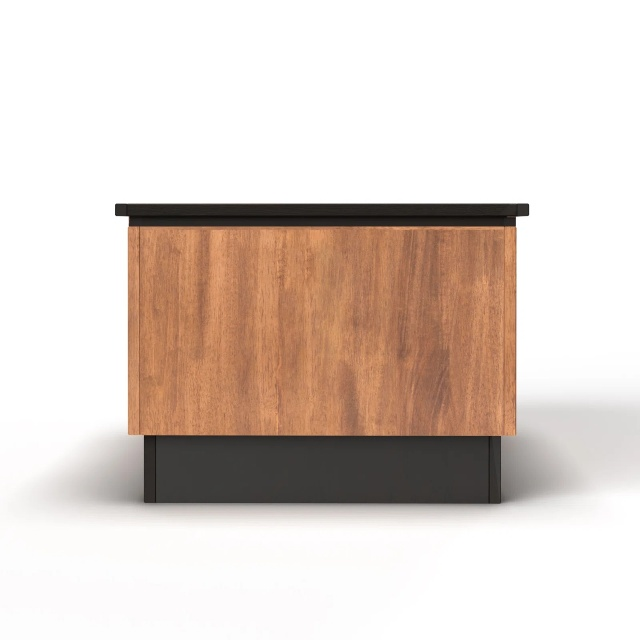obstacle: (116, 204, 528, 502)
